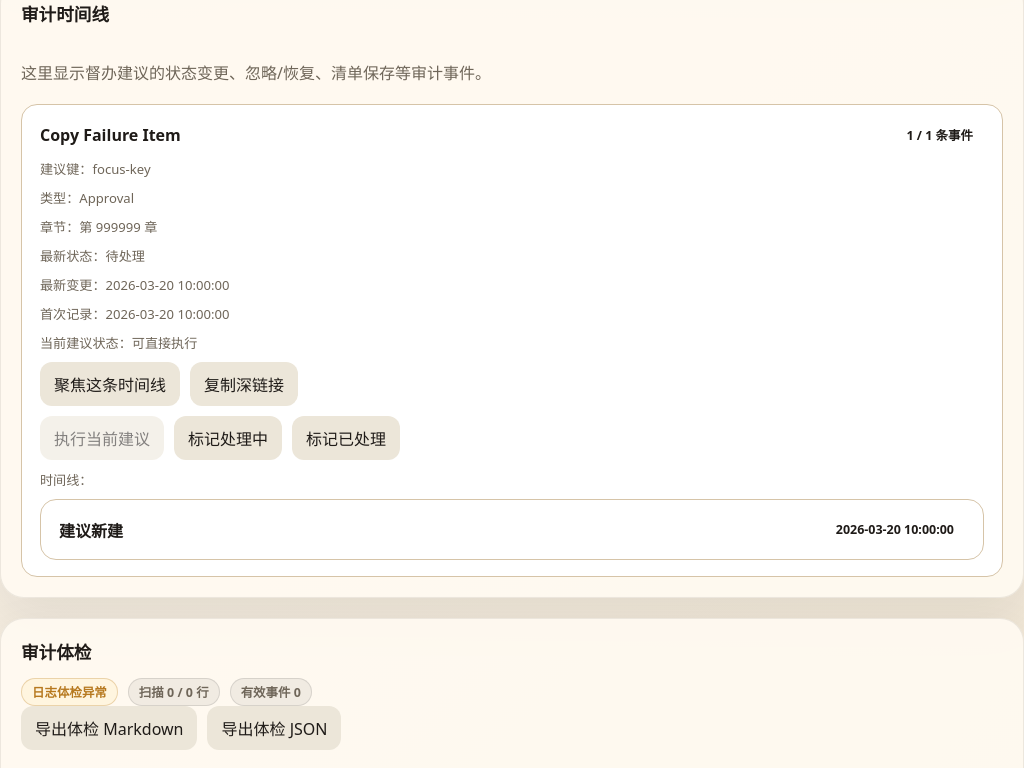
Test case: copy audit group link failure surfaces an error and keeps the audit item visible
(page scrolled)
Expected: the text "Copy Failure Item" is shown, [40,124,181,146]
Click the button "复制深链接". click: (244, 384)
box: [190,362,298,406]
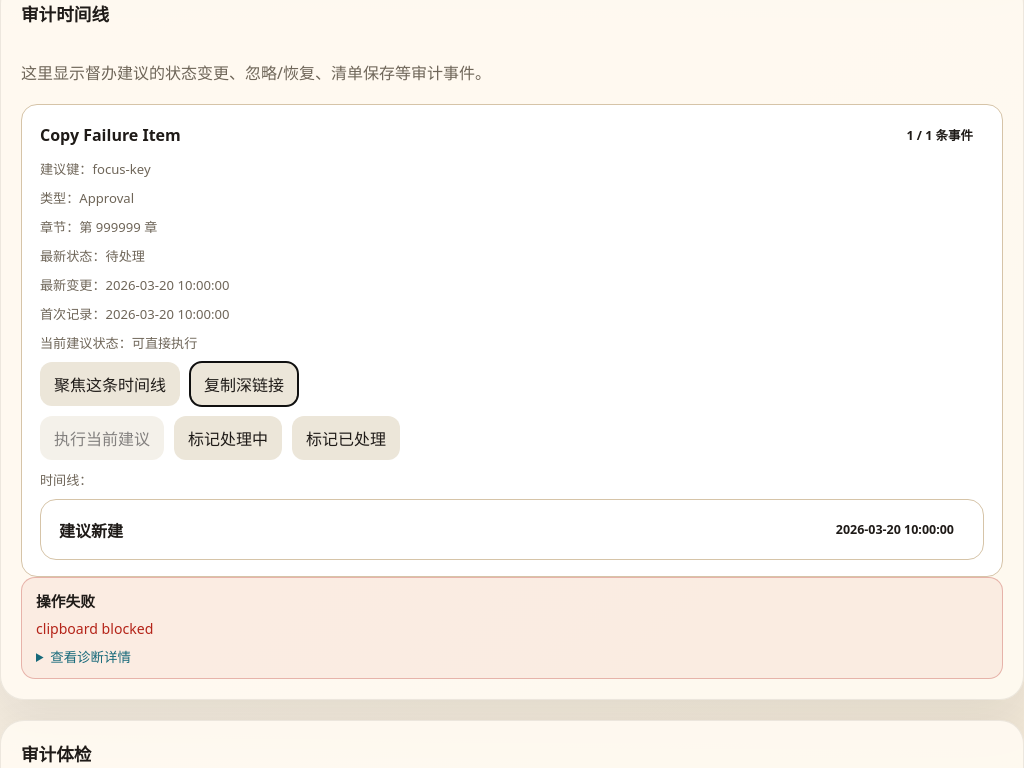
Expected: the text "Copy Failure Item" is shown, [40,124,181,146]
Now the message shows "clipboard blocked", box [36,619,153,638]
